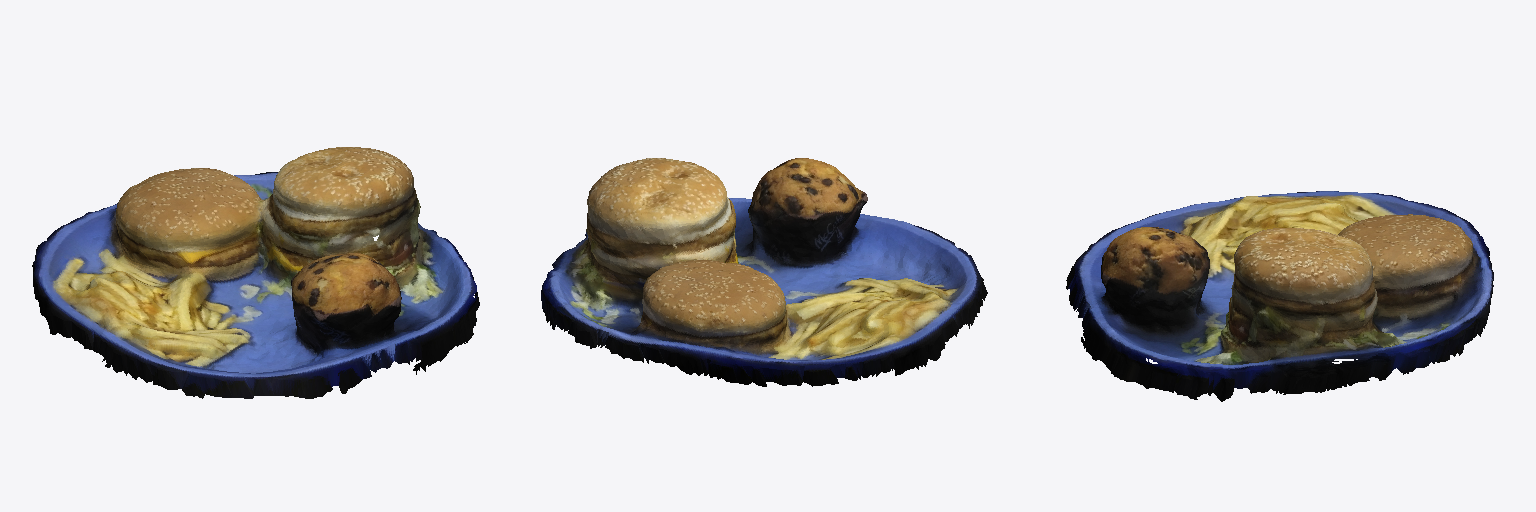
The picture shows the model from 3 angles: view 1: azimuth 30°, elevation 25°; view 2: azimuth 150°, elevation 25°; view 3: azimuth 270°, elevation 25°; orthographic projection.
Visible parts, largest first — view 1: burger2:Mesh; view 2: burger2:Mesh; view 3: burger2:Mesh.
Boxes of the visible parts, x1,y1,x2,y2 form: burger2:Mesh: [32, 147, 479, 398]; burger2:Mesh: [541, 158, 987, 386]; burger2:Mesh: [1066, 191, 1493, 401].
Size of the model in its own units: 3.97 by 1.28 by 3.94.
Materials: 1 (1 with a texture image).